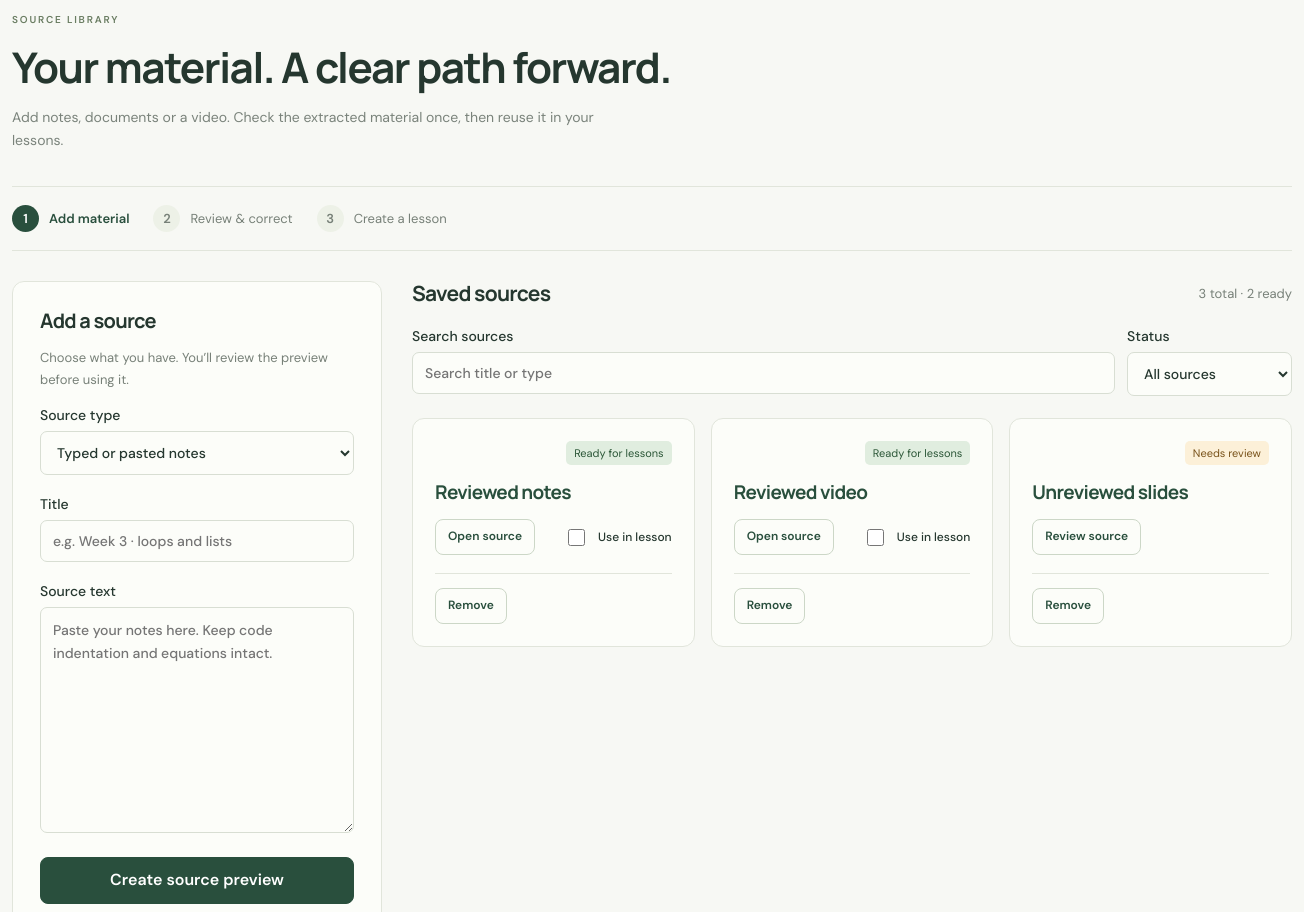
combines confirmed sources while keeping unreviewed sources unselectable
What coordinates should you click on to do the following:
click the checkbox named "Select Reviewed notes for a lesson"
I would click on:
 (577, 537)
Its box is [568,529,585,546].
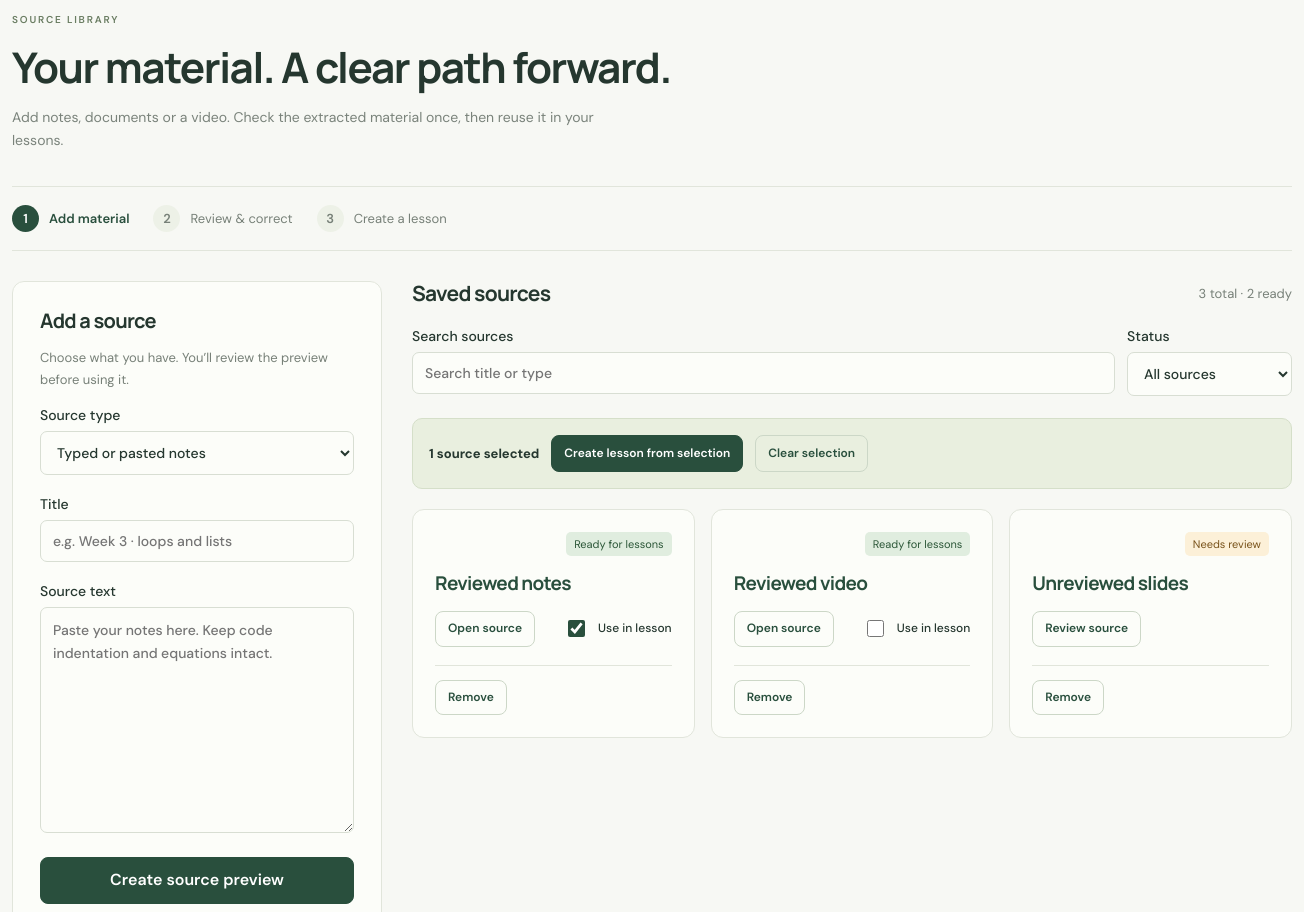
What coordinates should you click on to do the following:
click the checkbox named "Select Reviewed video for a lesson"
I would click on:
 (875, 629)
Its box is [867,620,884,637].
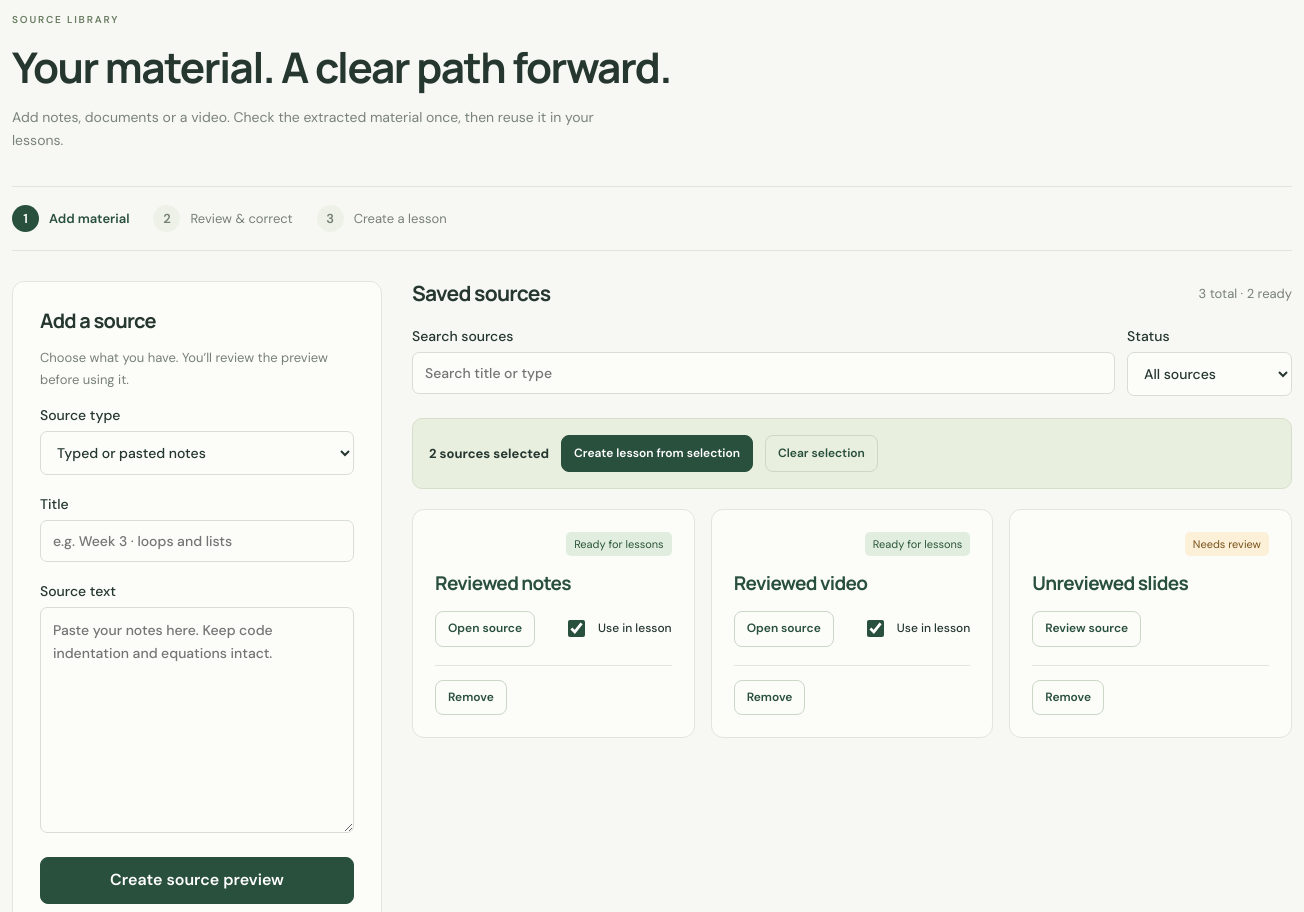
What coordinates should you click on to do the following:
click the button "Clear selection"
I would click on:
 (821, 453)
Its box is [765,434,878,472].
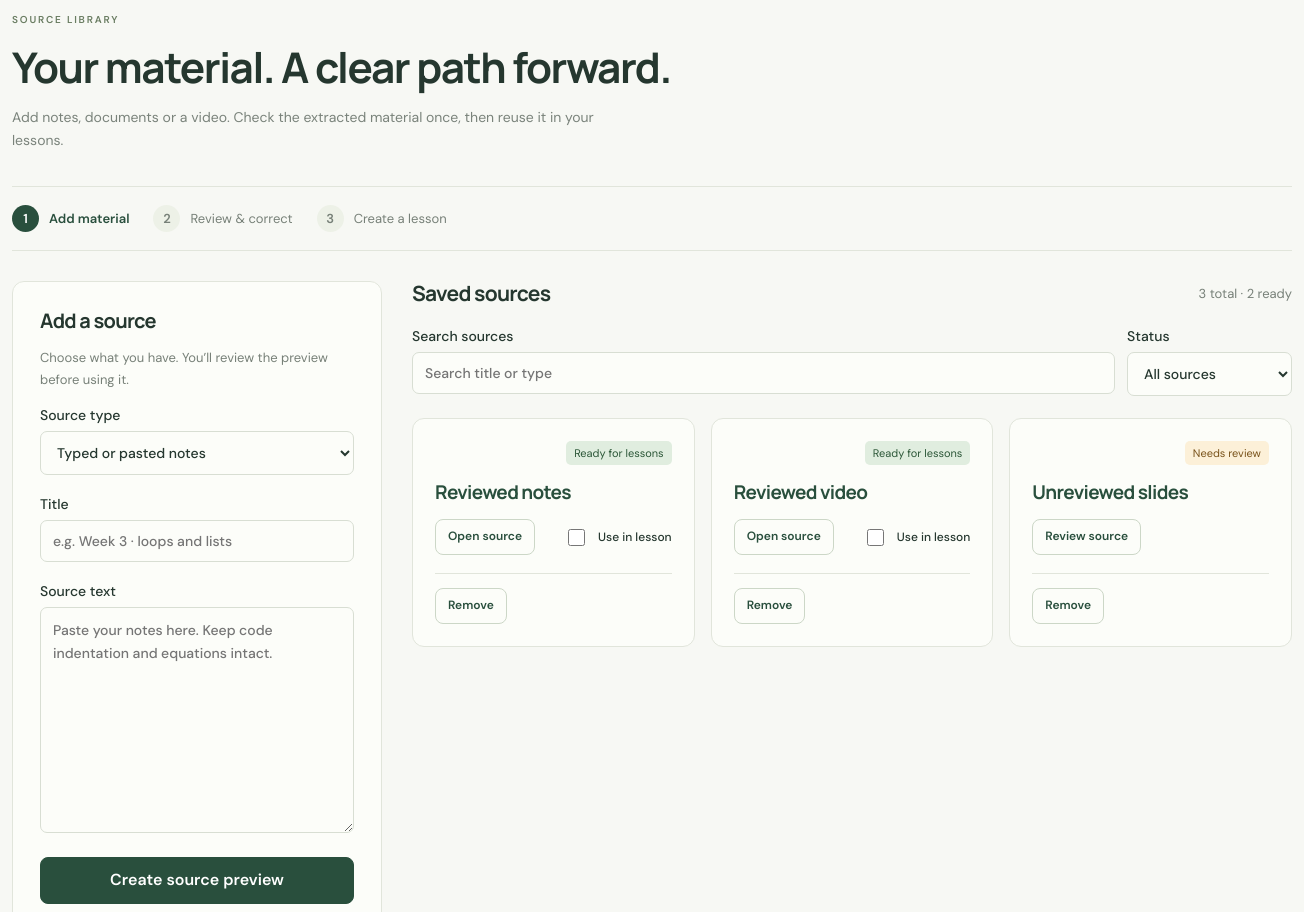
expect the link "Create lesson from selection" is gone: met
